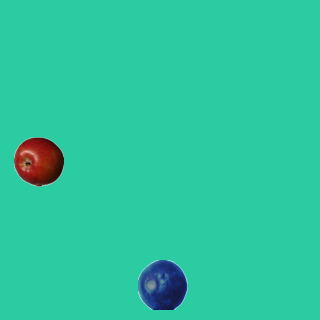Apple Braeburn: (13, 136, 63, 186)
Huckleberry: (137, 259, 187, 309)
